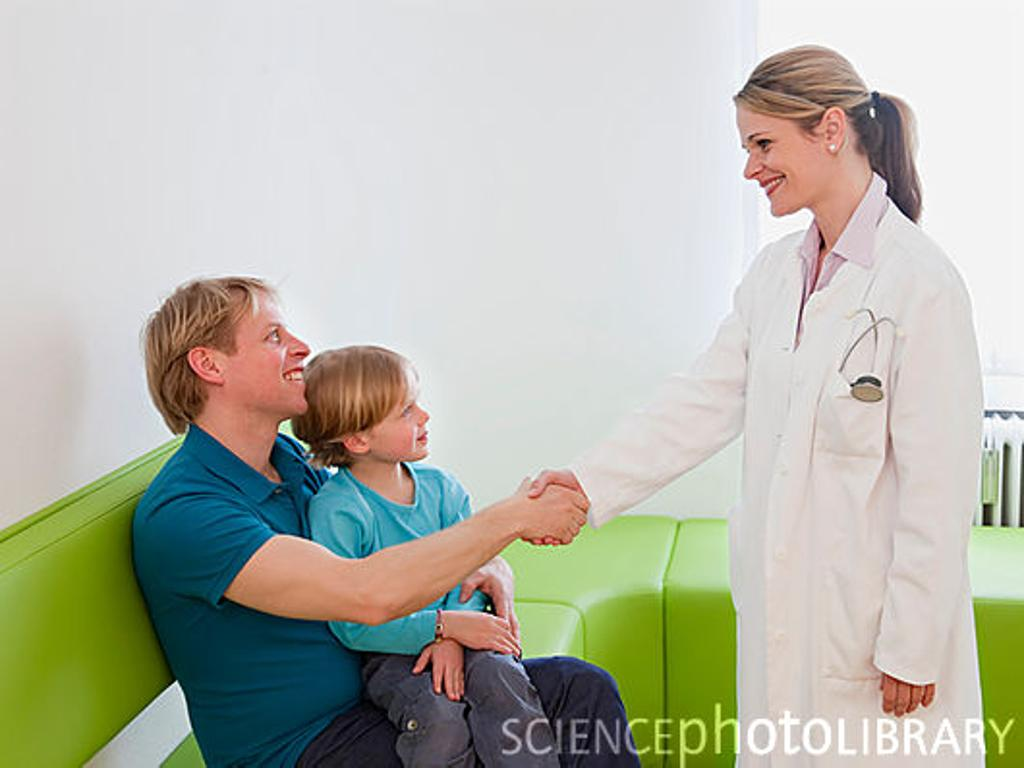face: (736, 92, 822, 220), (218, 302, 310, 412), (372, 370, 434, 462)
